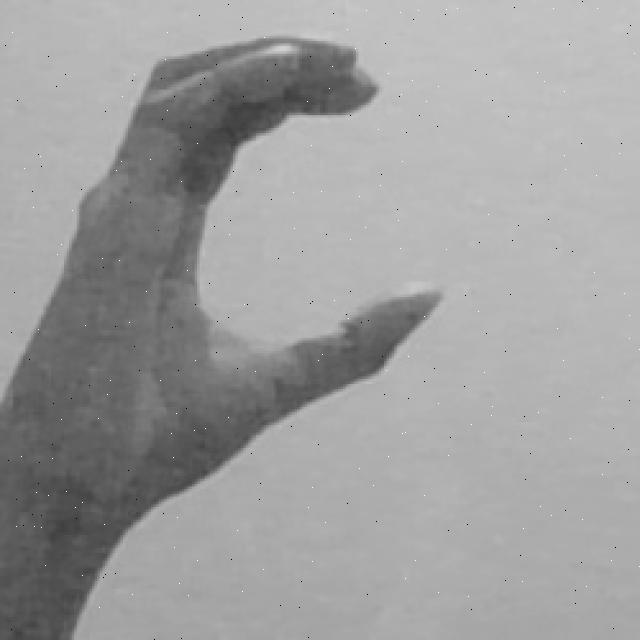C: (0, 31, 443, 637)
